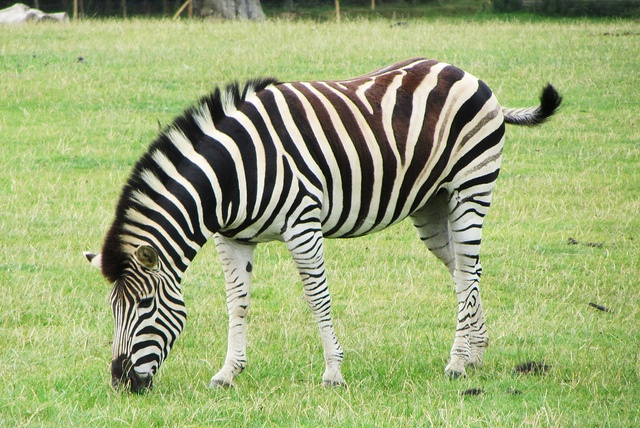zebra: (84, 57, 567, 396)
